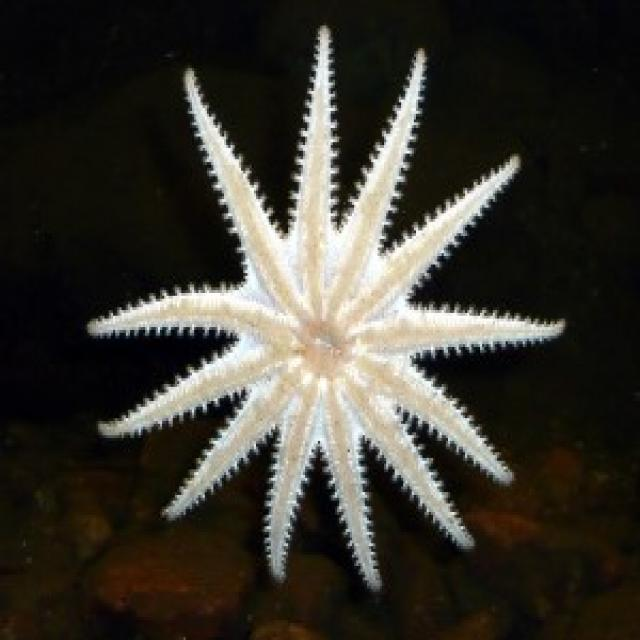Starfish: (60, 18, 577, 596)
